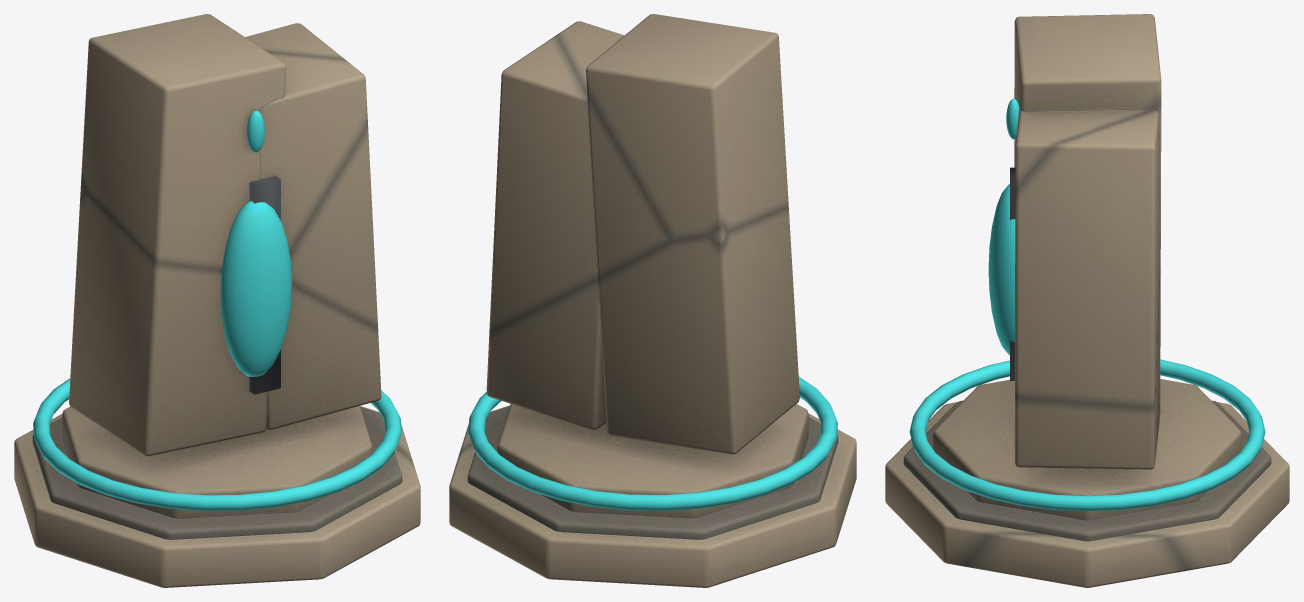
Rendered from rune_monolith.glb.
3 renders of one model, left to right at view 1: azimuth 30°, elevation 25°; view 2: azimuth 150°, elevation 25°; view 3: azimuth 270°, elevation 25°, orthographic. The views are drawn at different scales.
Parts seen in each view (by area): view 1: rune_monolith; view 2: rune_monolith; view 3: rune_monolith.
Part boxes in pixels (left/top/right/bottom): rune_monolith: left=14, top=14, right=420, bottom=587; rune_monolith: left=449, top=14, right=856, bottom=587; rune_monolith: left=885, top=14, right=1289, bottom=587.
Size of the model in its own units: 1.1 by 1.33 by 1.1.
Materials: 1 (1 with a texture image).
